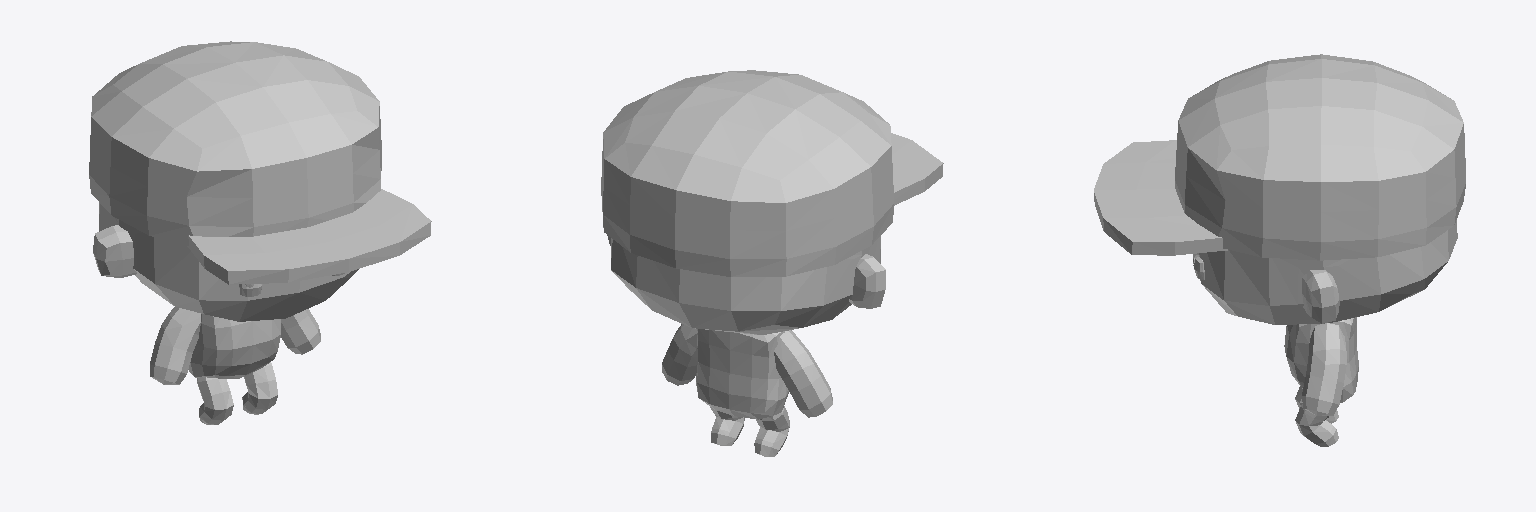
Rendered from jump_0006.obj.
3 views of the same model, side by side, from view 1: azimuth 30°, elevation 25°; view 2: azimuth 150°, elevation 25°; view 3: azimuth 270°, elevation 25° (orthographic).
Parts seen in each view (by area): view 1: Object_41, Object_42, Object_44, Object_36; view 2: Object_41, Object_36, Object_44, Object_42; view 3: Object_41, Object_36, Object_42, Object_44.
Part boxes in pixels (x1,y1,x2,y2): Object_41: (89,41,381,245); Object_42: (187,128,431,284); Object_44: (150,307,320,424); Object_36: (93,202,358,321); Object_41: (601,70,893,276); Object_36: (607,235,885,334); Object_44: (662,324,832,456); Object_42: (891,133,943,205); Object_41: (1178,54,1465,260); Object_36: (1193,220,1457,324); Object_42: (1094,121,1227,255); Object_44: (1284,317,1358,446).
Size of the model in its own units: 0.9691 by 1.19 by 1.13.